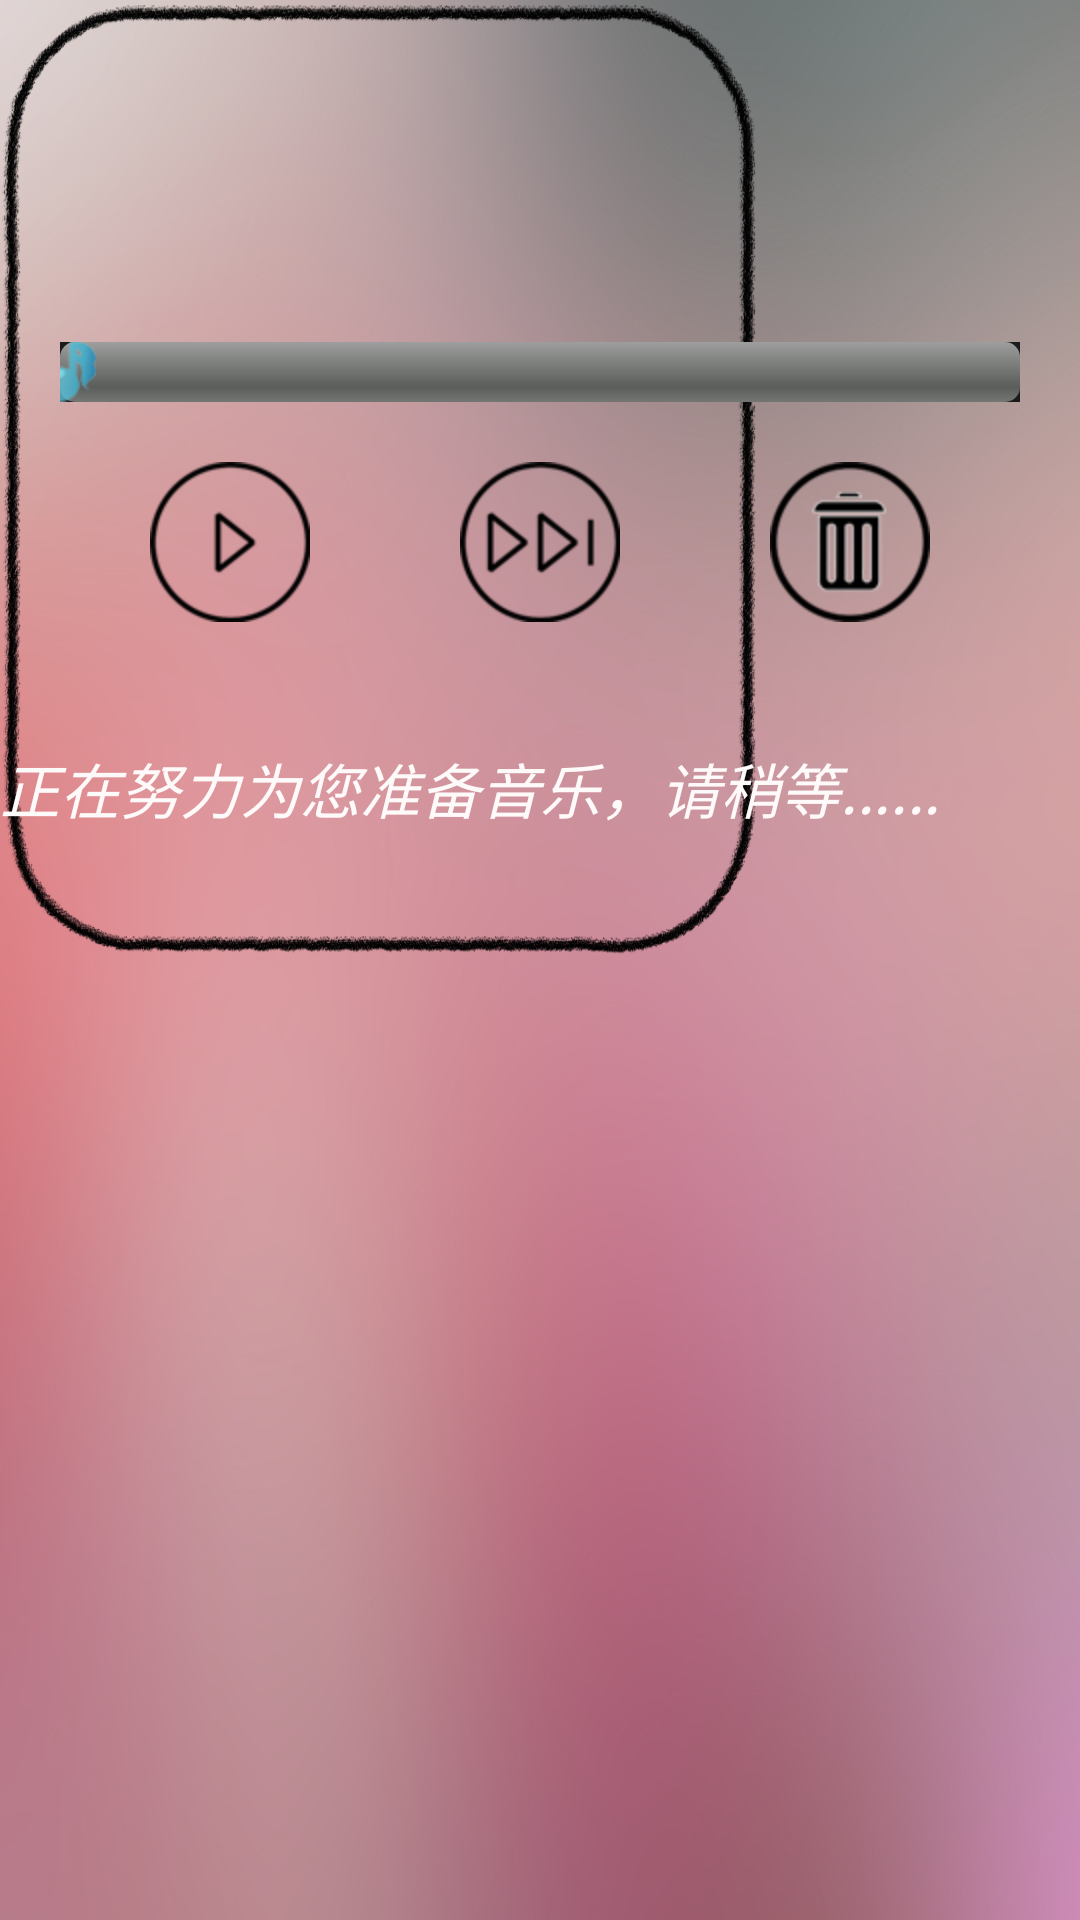

Named icons in this screenshot (1080px×1920px) and their bounding boxes, rect(x1, y1, x2, y2):
next: rect(460, 462, 620, 622)
start: rect(150, 462, 310, 622)
